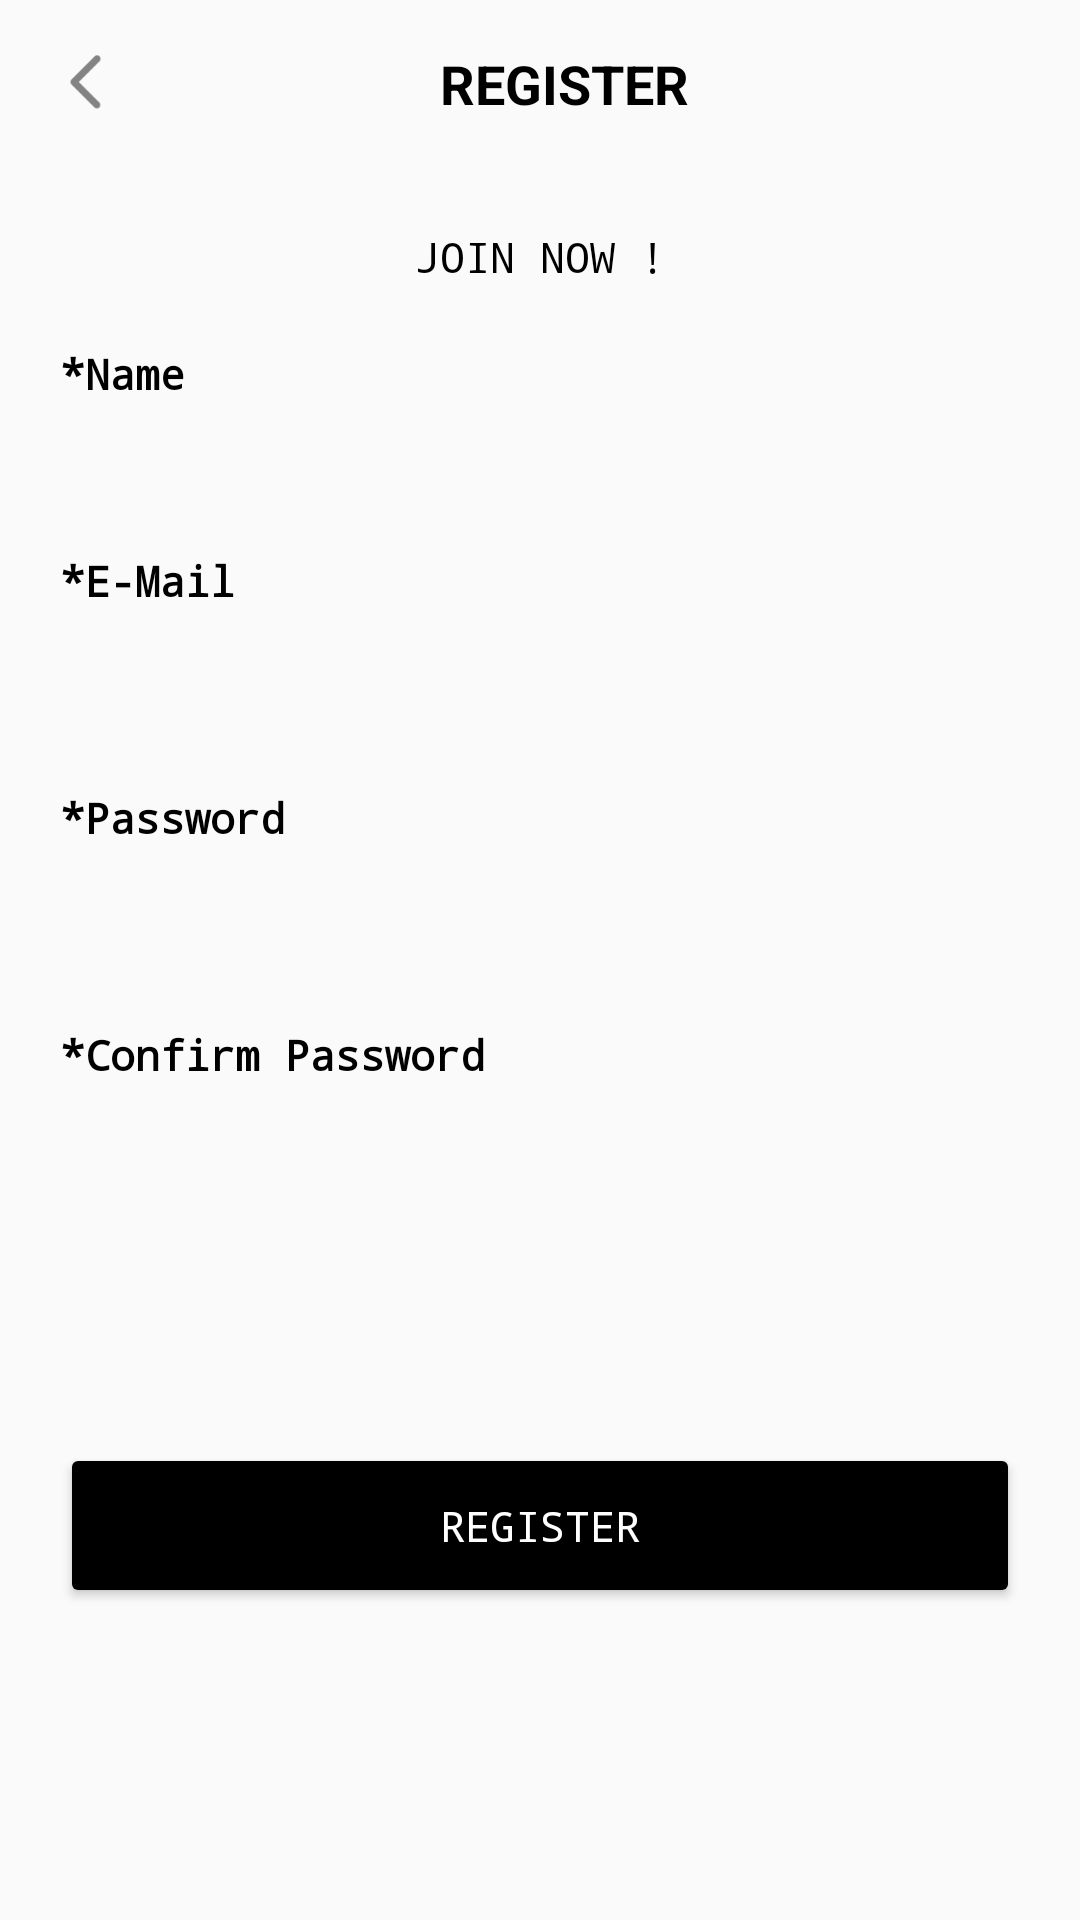

Icons on this 1080x1920 Android screen, each with the point to tap as (x=x, y=y):
left: (x=85, y=82)
